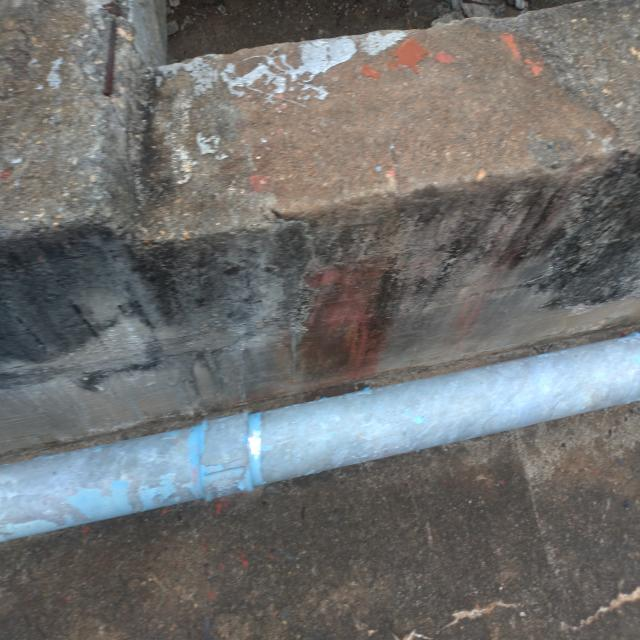gas: (5, 338, 631, 544)
